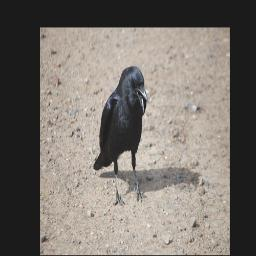Crow: (93, 66, 149, 206)
